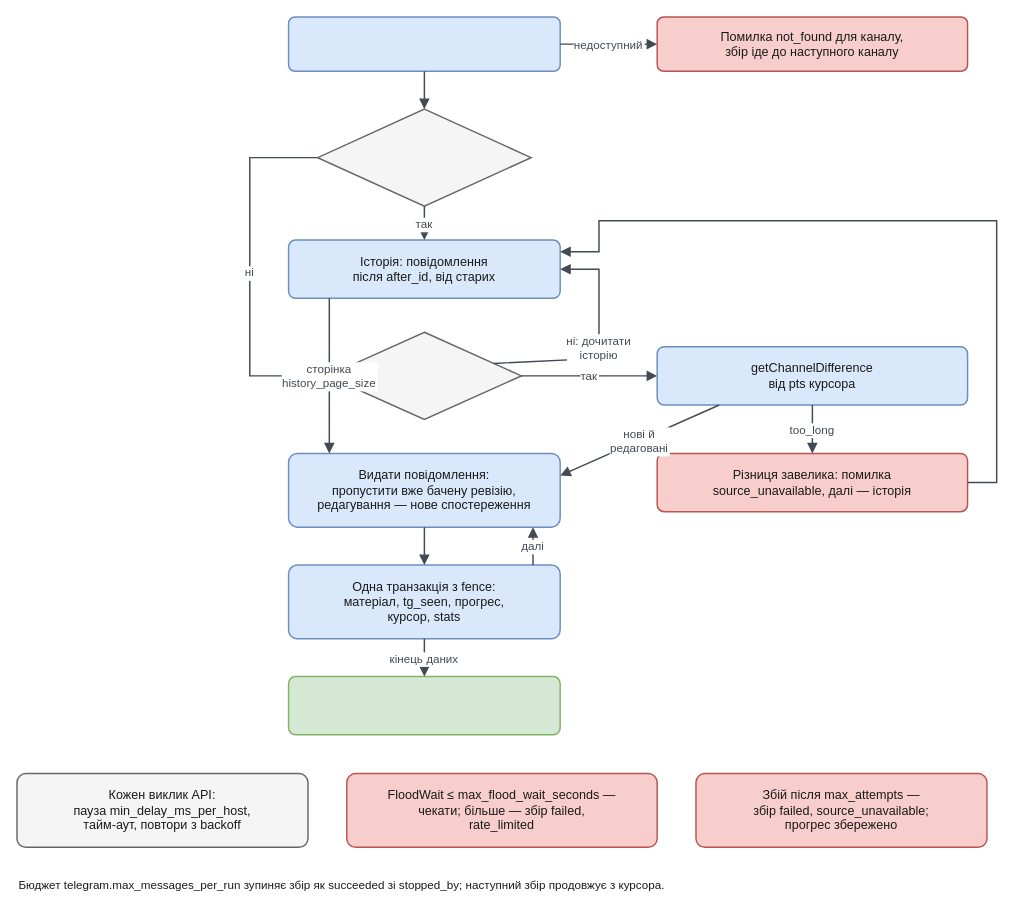
Some shapes in this 1023 by 917 pixel diagram are drawn without their labels. The box of each missing label's shape, as (x1, y1, x2, y2) in pixels:
mode=full або немає курсора?: (317, 108, 531, 206)
Знайти канал username або channel_id: (287, 16, 560, 72)
Канал готовий: курсор pts, last_message_id: (287, 675, 560, 735)
Курсор має pts?: (326, 331, 522, 420)
